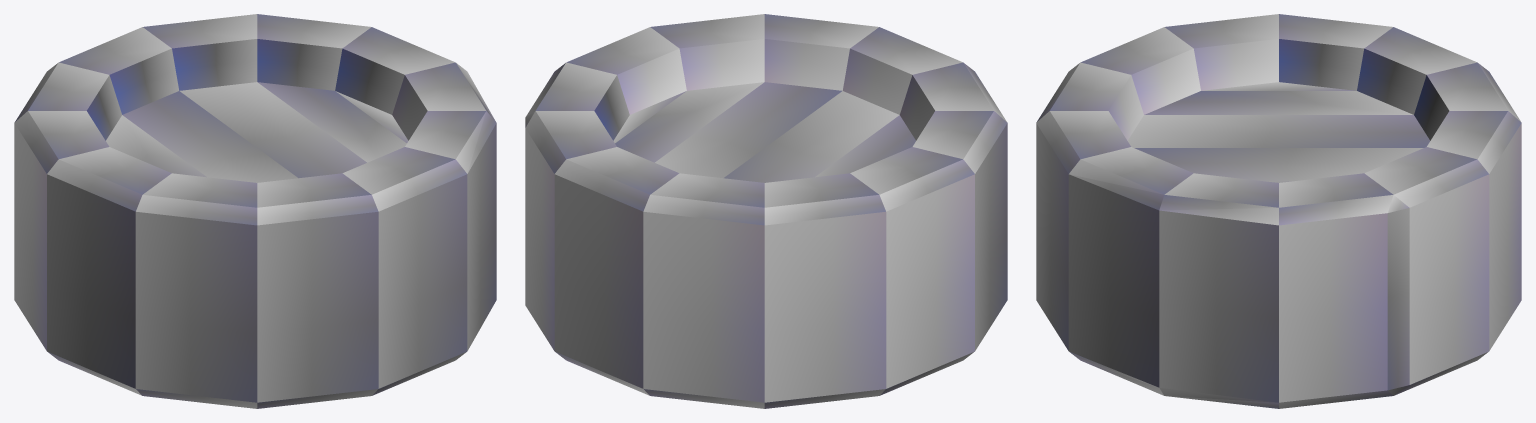
File: coin03.fbx
3 renders of one model, left to right at view 1: azimuth 30°, elevation 25°; view 2: azimuth 150°, elevation 25°; view 3: azimuth 270°, elevation 25°, orthographic.
Visible parts, largest first — view 1: coin03; view 2: coin03; view 3: coin03.
Boxes of the visible parts, x1=… form: coin03: x1=14, y1=14, x2=496, y2=408; coin03: x1=525, y1=14, x2=1007, y2=408; coin03: x1=1036, y1=14, x2=1521, y2=408.
Size of the model in its own units: 91.24 by 41.71 by 91.24.
